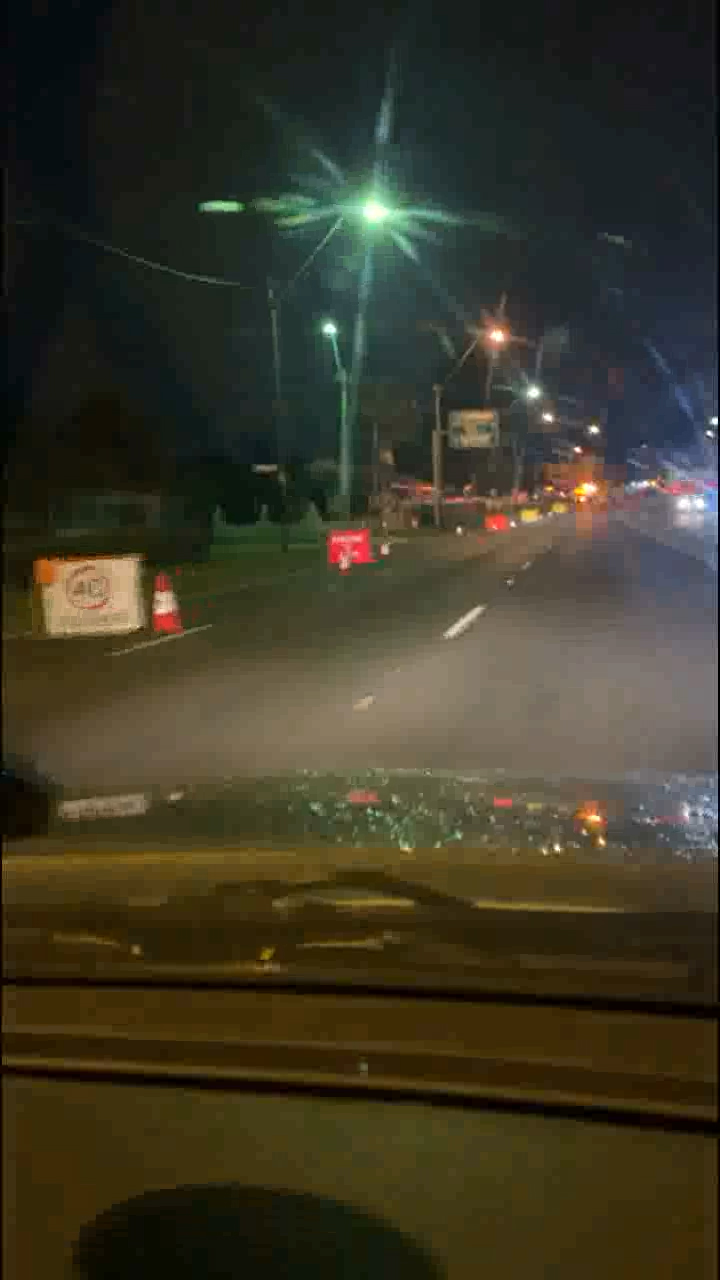road cone: (154, 579, 179, 638)
road works sign board: (327, 530, 369, 565), (485, 519, 502, 525)
speed board: (33, 559, 145, 636)
